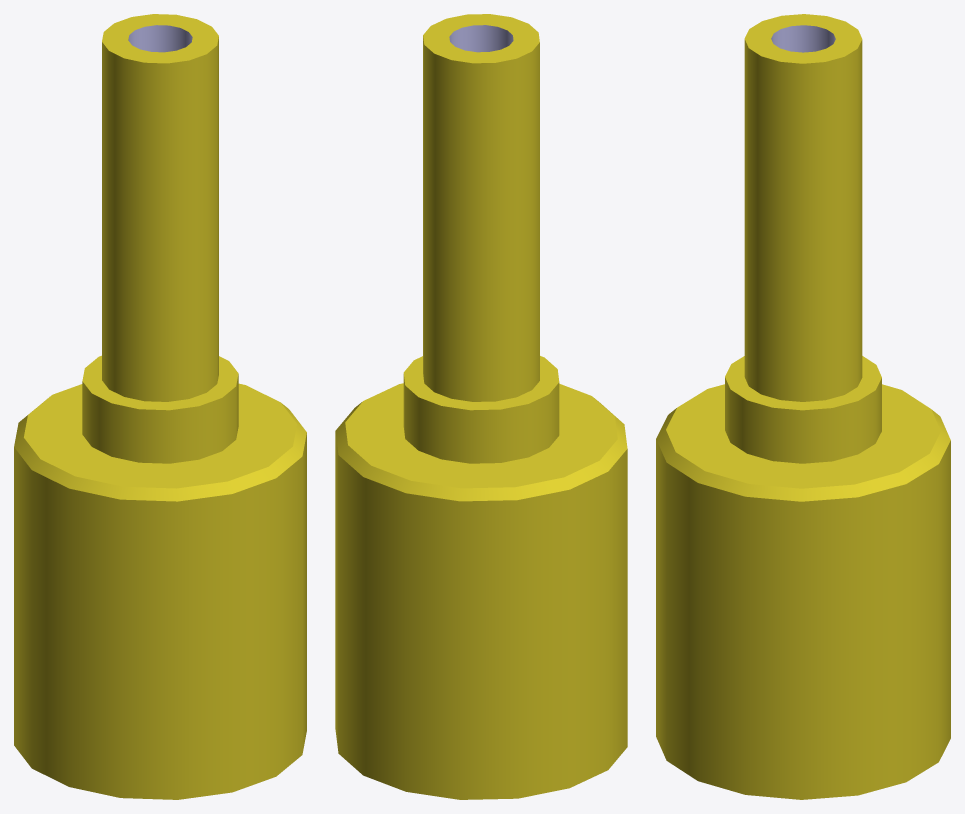
Rendered from CONGDONGLUN22_MIR_ASM_1_ASM_1_1.gltf.
3 renders of one model, left to right at view 1: azimuth 30°, elevation 25°; view 2: azimuth 150°, elevation 25°; view 3: azimuth 270°, elevation 25°, orthographic.
Parts seen in each view (by area): view 1: mesh203, mesh208, mesh205, mesh206, mesh204, mesh209, mesh207, mesh210; view 2: mesh203, mesh208, mesh205, mesh206, mesh204, mesh209, mesh207, mesh210; view 3: mesh203, mesh208, mesh205, mesh206, mesh204, mesh209, mesh207, mesh210.
Boxes of the visible parts, box(x1,y1,x2,y2) form: mesh203: box(14, 433, 306, 799); mesh208: box(102, 37, 218, 401); mesh205: box(24, 383, 296, 488); mesh206: box(82, 374, 238, 463); mesh204: box(14, 403, 306, 501); mesh209: box(102, 14, 218, 63); mesh207: box(82, 355, 238, 410); mesh210: box(128, 25, 192, 52); mesh203: box(335, 431, 627, 799); mesh208: box(423, 36, 539, 401); mesh205: box(345, 383, 617, 488); mesh206: box(403, 374, 559, 463); mesh204: box(335, 398, 627, 501); mesh209: box(423, 14, 539, 63); mesh207: box(403, 356, 559, 410); mesh210: box(449, 25, 513, 52); mesh203: box(656, 439, 950, 799); mesh208: box(744, 39, 862, 401); mesh205: box(666, 384, 940, 488); mesh206: box(725, 377, 881, 463); mesh204: box(656, 408, 950, 501); mesh209: box(744, 14, 862, 63); mesh207: box(725, 356, 881, 410); mesh210: box(771, 25, 835, 52).
Bounding box in the file's own units: 0.015 × 0.0392 × 0.015.
